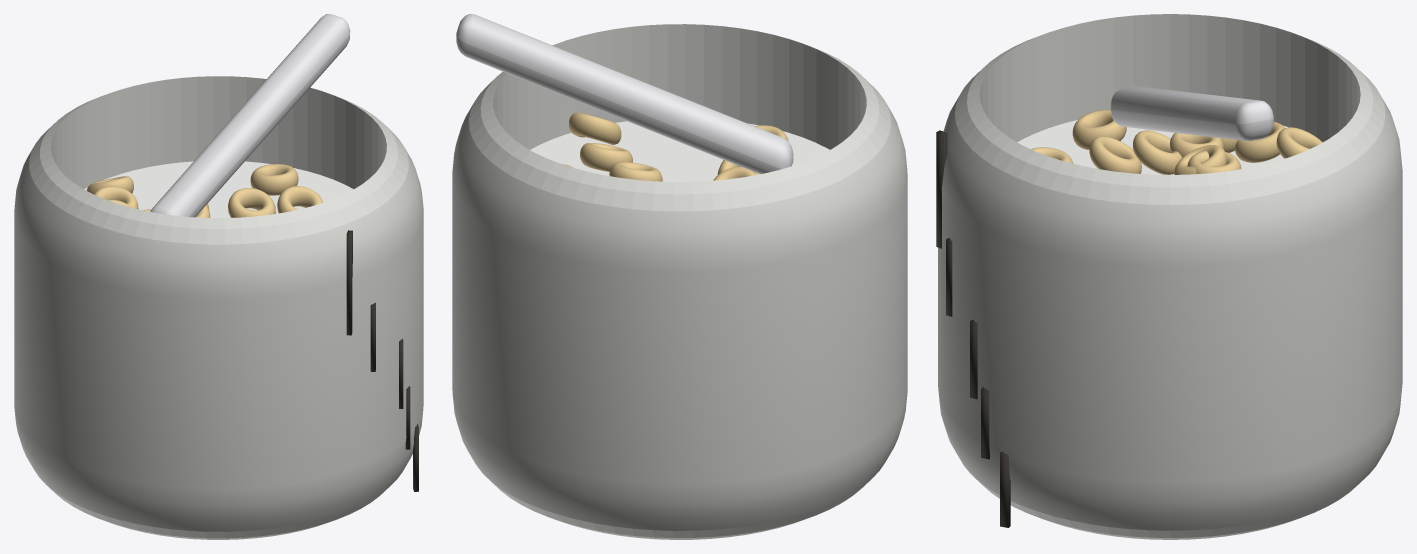
File: cereal_bowl_dmg.glb
The picture shows the model from 3 angles, left to right: view 1: azimuth 30°, elevation 25°; view 2: azimuth 150°, elevation 25°; view 3: azimuth 270°, elevation 25°; orthographic projection. The views are drawn at different scales.
Visible parts, largest first — view 1: Cylinder.002, Cube.006, Cylinder.003, Torus.015, Torus.018, Torus.022, Cube.007, Torus.023, Torus.027; view 2: Cylinder.002, Cube.006, Cylinder.003, Torus.014, Torus.022, Torus.018; view 3: Cylinder.002, Cube.006, Cylinder.003, Torus.016, Torus.026, Torus.021, Torus.023, Torus.027, Cube.007, Torus.020, Cube.011, Torus.017 (+3 smaller).
Boxes of the visible parts, bbox=[...] form: Cylinder.002: bbox=[14, 76, 423, 539]; Cube.006: bbox=[150, 14, 350, 217]; Cylinder.003: bbox=[84, 161, 353, 217]; Torus.015: bbox=[250, 164, 298, 195]; Torus.018: bbox=[228, 188, 275, 217]; Torus.022: bbox=[277, 186, 323, 213]; Cube.007: bbox=[346, 230, 352, 335]; Torus.023: bbox=[94, 186, 138, 209]; Torus.027: bbox=[86, 176, 133, 194]; Cylinder.002: bbox=[452, 24, 907, 539]; Cube.006: bbox=[456, 14, 793, 174]; Cylinder.003: bbox=[530, 121, 829, 181]; Torus.014: bbox=[569, 112, 621, 144]; Torus.022: bbox=[580, 143, 632, 171]; Torus.018: bbox=[609, 162, 662, 181]; Cylinder.002: bbox=[938, 14, 1402, 539]; Cube.006: bbox=[1110, 86, 1273, 141]; Cylinder.003: bbox=[1017, 120, 1322, 174]; Torus.016: bbox=[1132, 130, 1182, 174]; Torus.026: bbox=[1089, 136, 1141, 173]; Torus.021: bbox=[1072, 110, 1126, 150]; Torus.023: bbox=[1234, 122, 1284, 162]; Torus.027: bbox=[1276, 127, 1322, 158]; Cube.007: bbox=[936, 130, 947, 248]; Torus.020: bbox=[1174, 145, 1226, 174]; Cube.011: bbox=[1000, 451, 1010, 527]; Torus.017: bbox=[1170, 133, 1223, 157].
Bounding box in the file's own units: 3.4 × 3.59 × 3.41.
